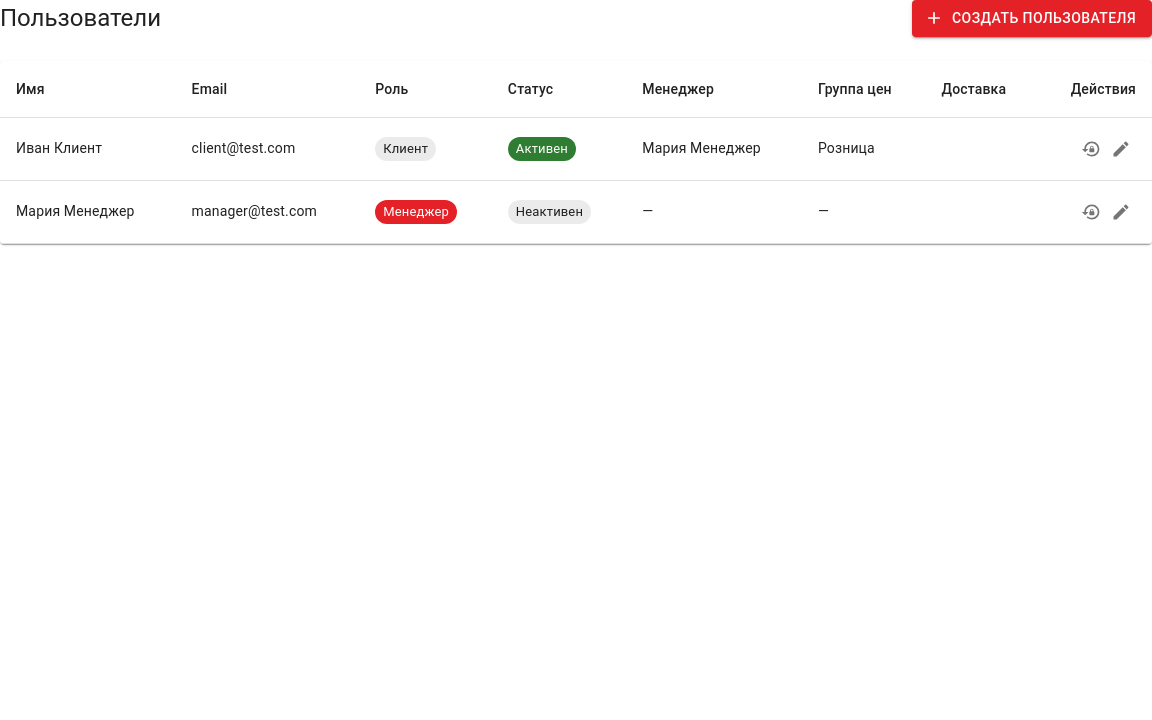
it: UsersPage › opens edit dialog when edit button clicked
Check: the text "Иван Клиент" is shown, box [0, 117, 176, 180]
What coordinates should you click on to do the following:
click the button named "редактировать" in the row of "Иван Клиент"
I would click on:
 (1121, 148)
Its box is [1106, 134, 1136, 164].
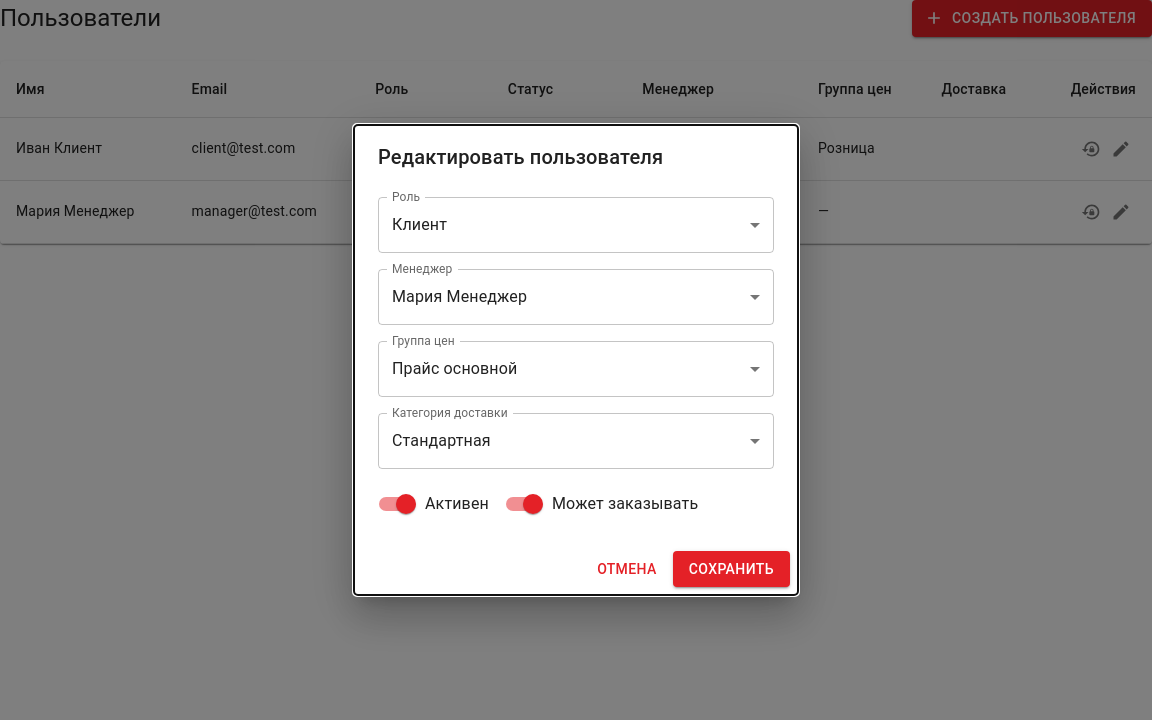
Check: the dialog is shown, box [354, 125, 798, 595]
Check: the heading "Редактировать пользователя" is shown, box [378, 145, 663, 169]
